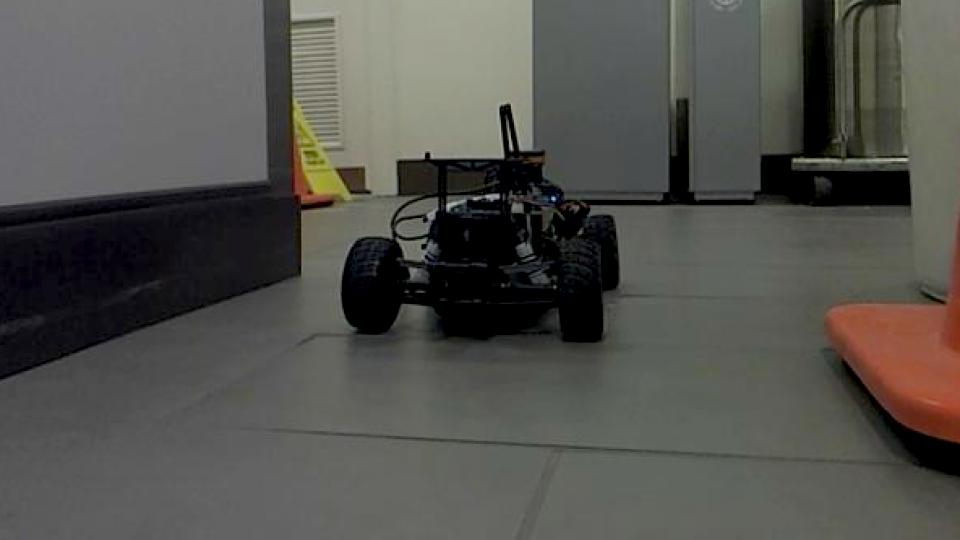car: (336, 101, 622, 345)
